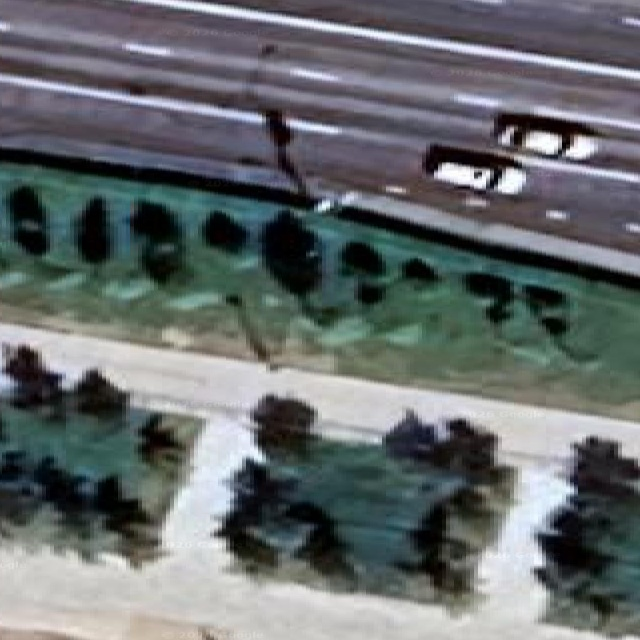car: (493, 111, 595, 160), (424, 144, 523, 193)
